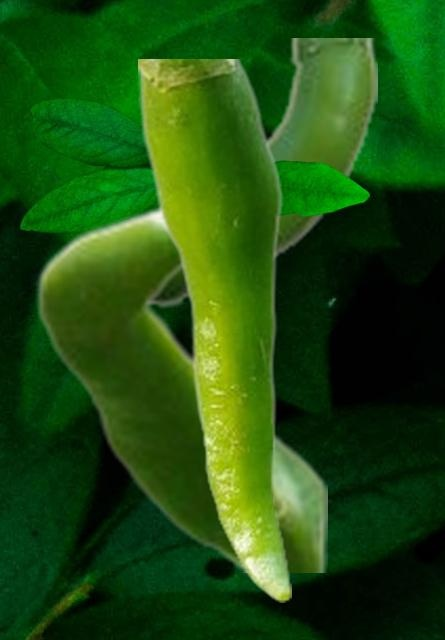green_chili: (35, 200, 326, 571), (138, 59, 290, 601), (154, 38, 376, 309)
